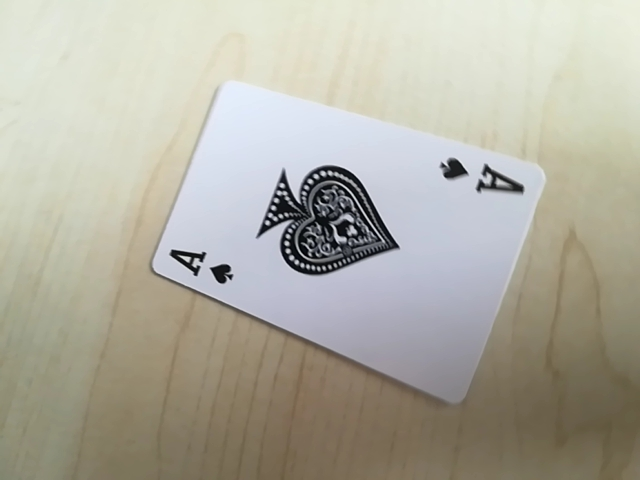ht a: (434, 152, 526, 202), (160, 249, 241, 289)
